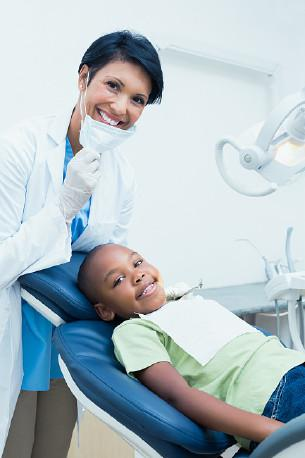NONE: (108, 257, 170, 309)
WRONG: (79, 73, 150, 144)
